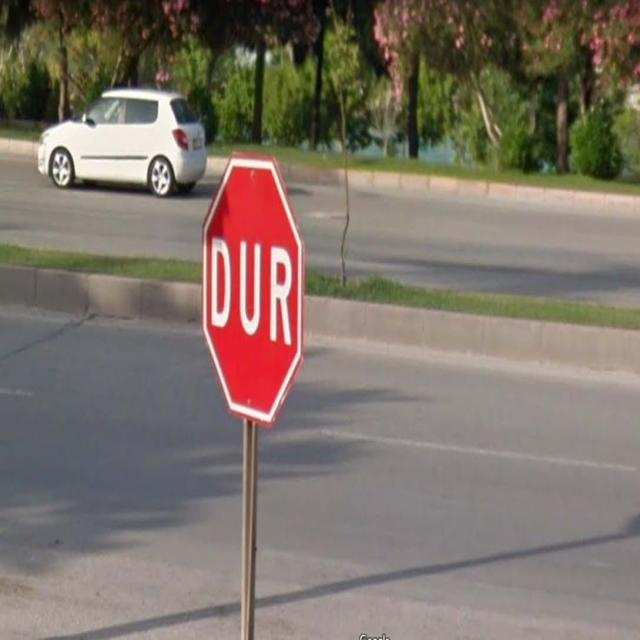dur: (202, 153, 305, 426)
